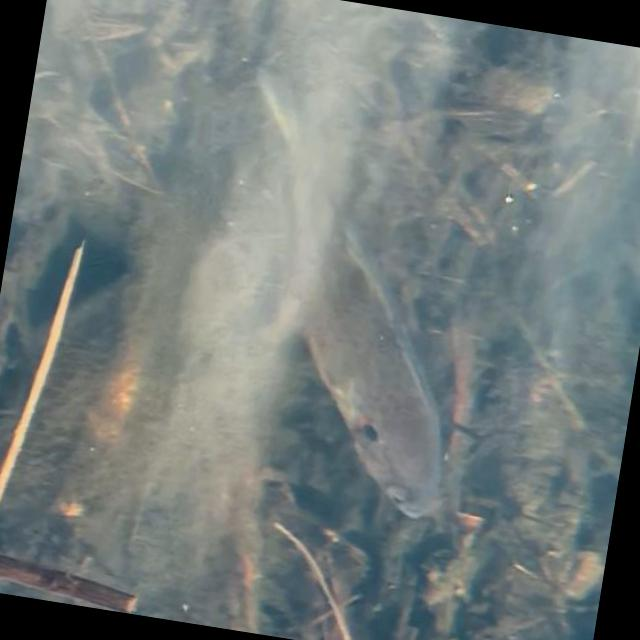Gunes Levregi: (172, 51, 508, 524)
